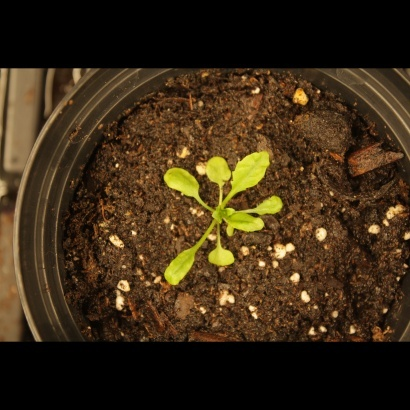leaf: (159, 239, 204, 289), (231, 144, 272, 196), (160, 166, 203, 203), (203, 152, 233, 191), (225, 210, 266, 237), (209, 240, 240, 270), (254, 194, 286, 219)
